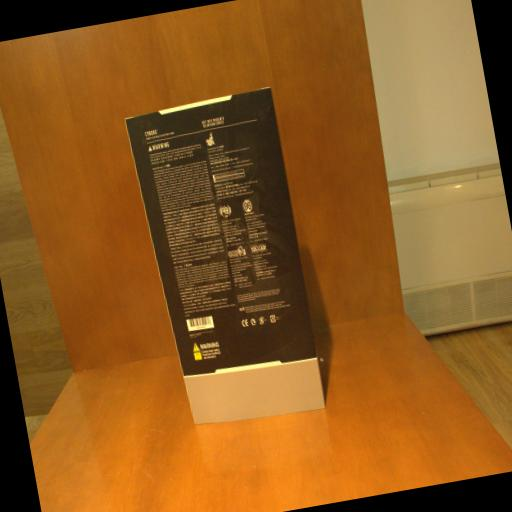Cyborg: (122, 87, 329, 433)
